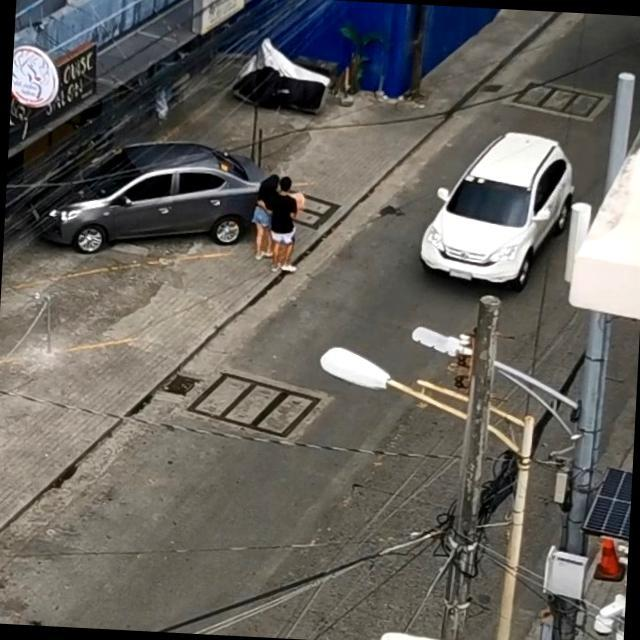Car: (30, 133, 261, 259), (413, 127, 569, 292)
